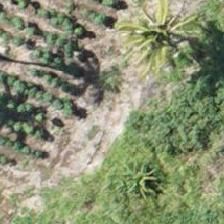coconut_tree: (115, 0, 205, 89)
